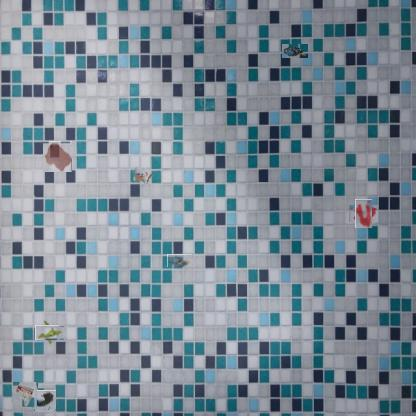dirty: (13, 382, 38, 406), (131, 164, 155, 186), (34, 389, 55, 411), (39, 322, 60, 344), (282, 44, 308, 58), (167, 254, 192, 267)
liquid: (42, 141, 72, 172), (352, 202, 375, 225)
